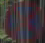No Stopping: (5, 5, 42, 42)
